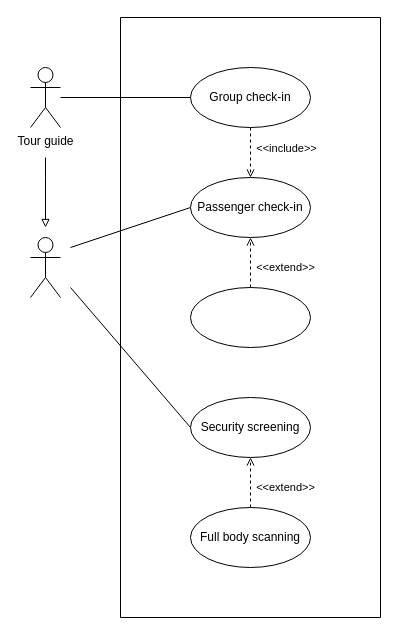
Image size: 398x635. Some labels were removed from this diagram. The shapes that lost their labels are listed below. From the top down, each one's centre as x and y in pixels, then its label:
the point at 45,267: Passenger
the point at 250,317: Baggage check-in
